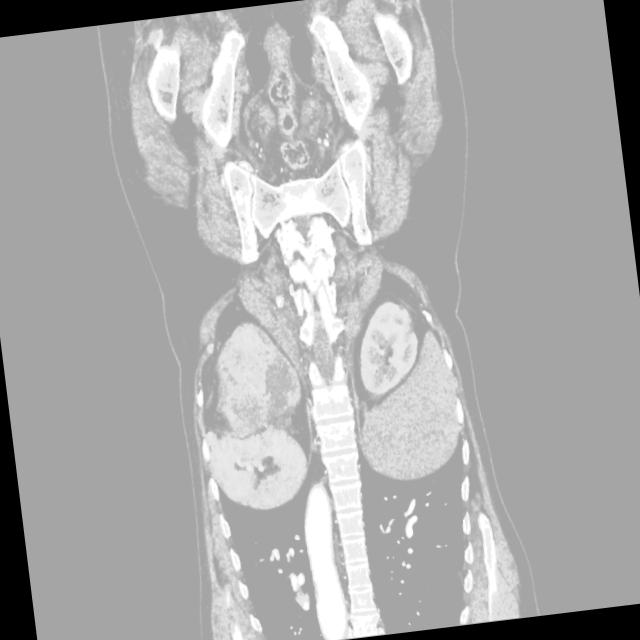TUMOR: (155, 261, 537, 509)
